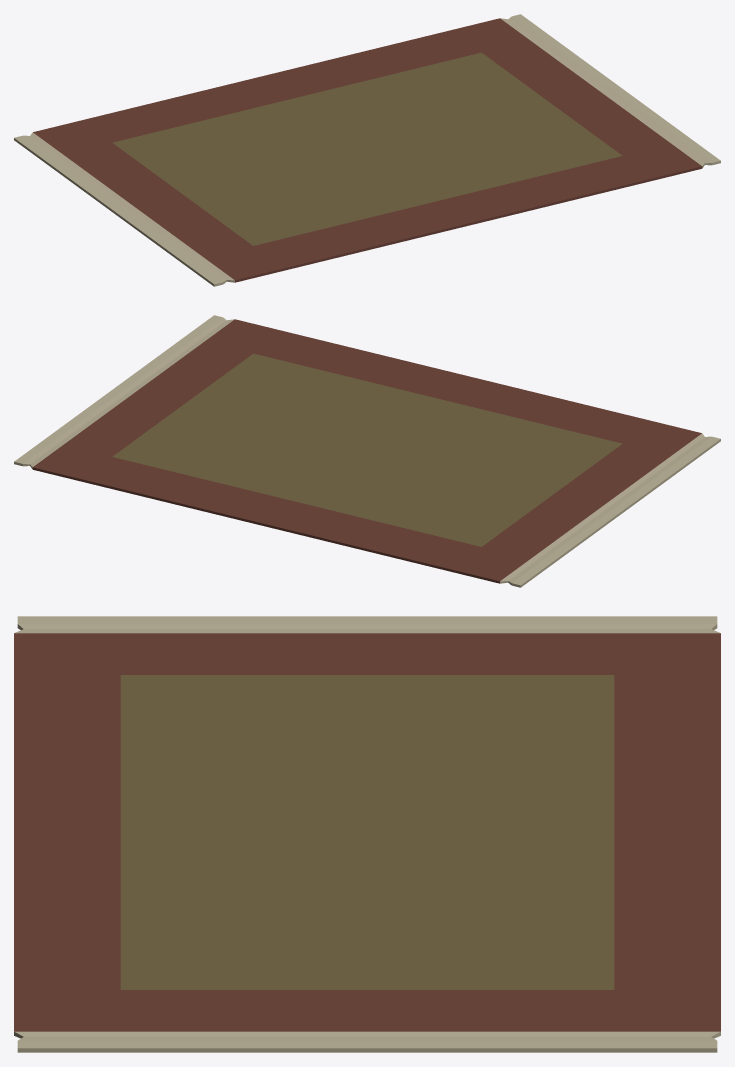
The model's file is Carpet_Red.glb.
3 views of the same model, one above another, from view 1: azimuth 30°, elevation 25°; view 2: azimuth 150°, elevation 25°; view 3: azimuth 270°, elevation 25° (orthographic). The views are drawn at different scales.
Parts seen in each view (by area): view 1: Carpet_Red.001; view 2: Carpet_Red.001; view 3: Carpet_Red.001.
Boxes of the visible parts, bbox=[...] form: Carpet_Red.001: bbox=[14, 14, 720, 286]; Carpet_Red.001: bbox=[14, 315, 720, 587]; Carpet_Red.001: bbox=[14, 616, 720, 1052].
Size of the model in its own units: 4.34 by 0.0196 by 3.
Materials: 1 (1 with a texture image).
